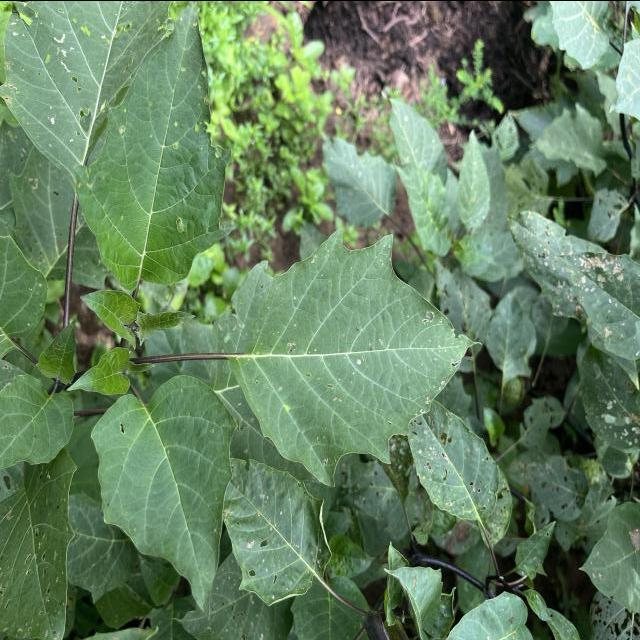Datura metal linn: (222, 220, 488, 492), (71, 0, 238, 292), (87, 370, 243, 621), (78, 286, 144, 351), (64, 343, 132, 398)
